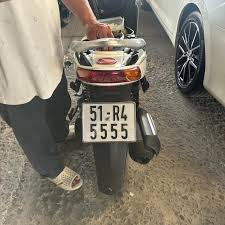Bien-so: (81, 102, 138, 144)
